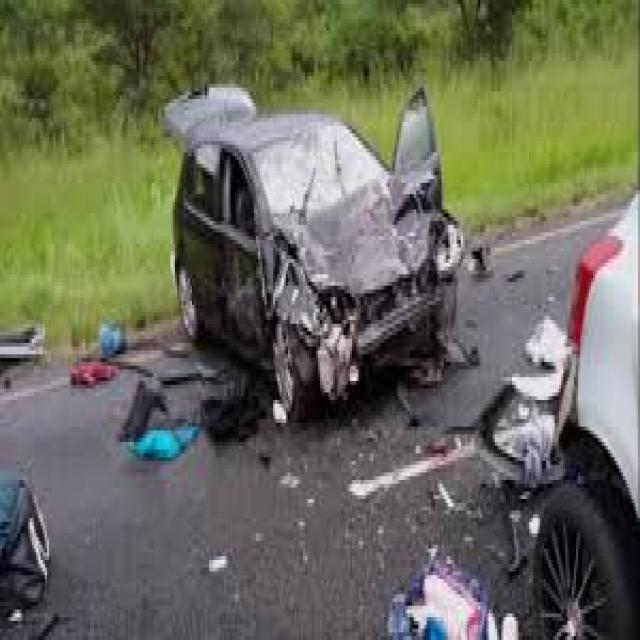accident: (132, 80, 478, 426)
